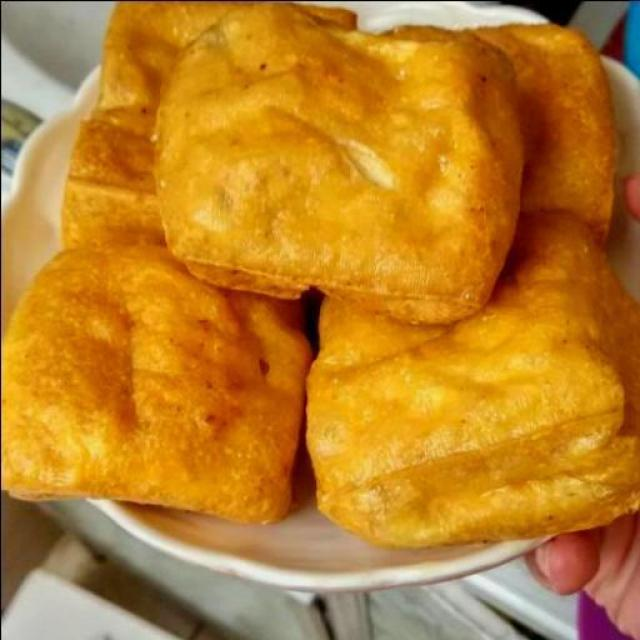mangkuk: (1, 1, 640, 594)
tahu goreng: (281, 188, 639, 554), (152, 23, 518, 328), (0, 228, 314, 528)
